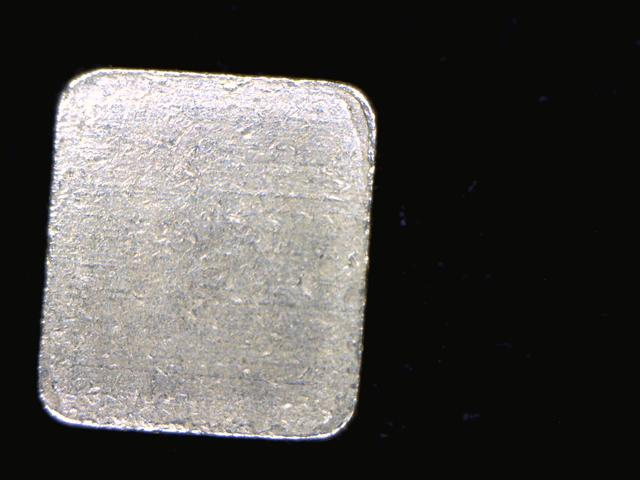ok: (42, 63, 387, 441)
